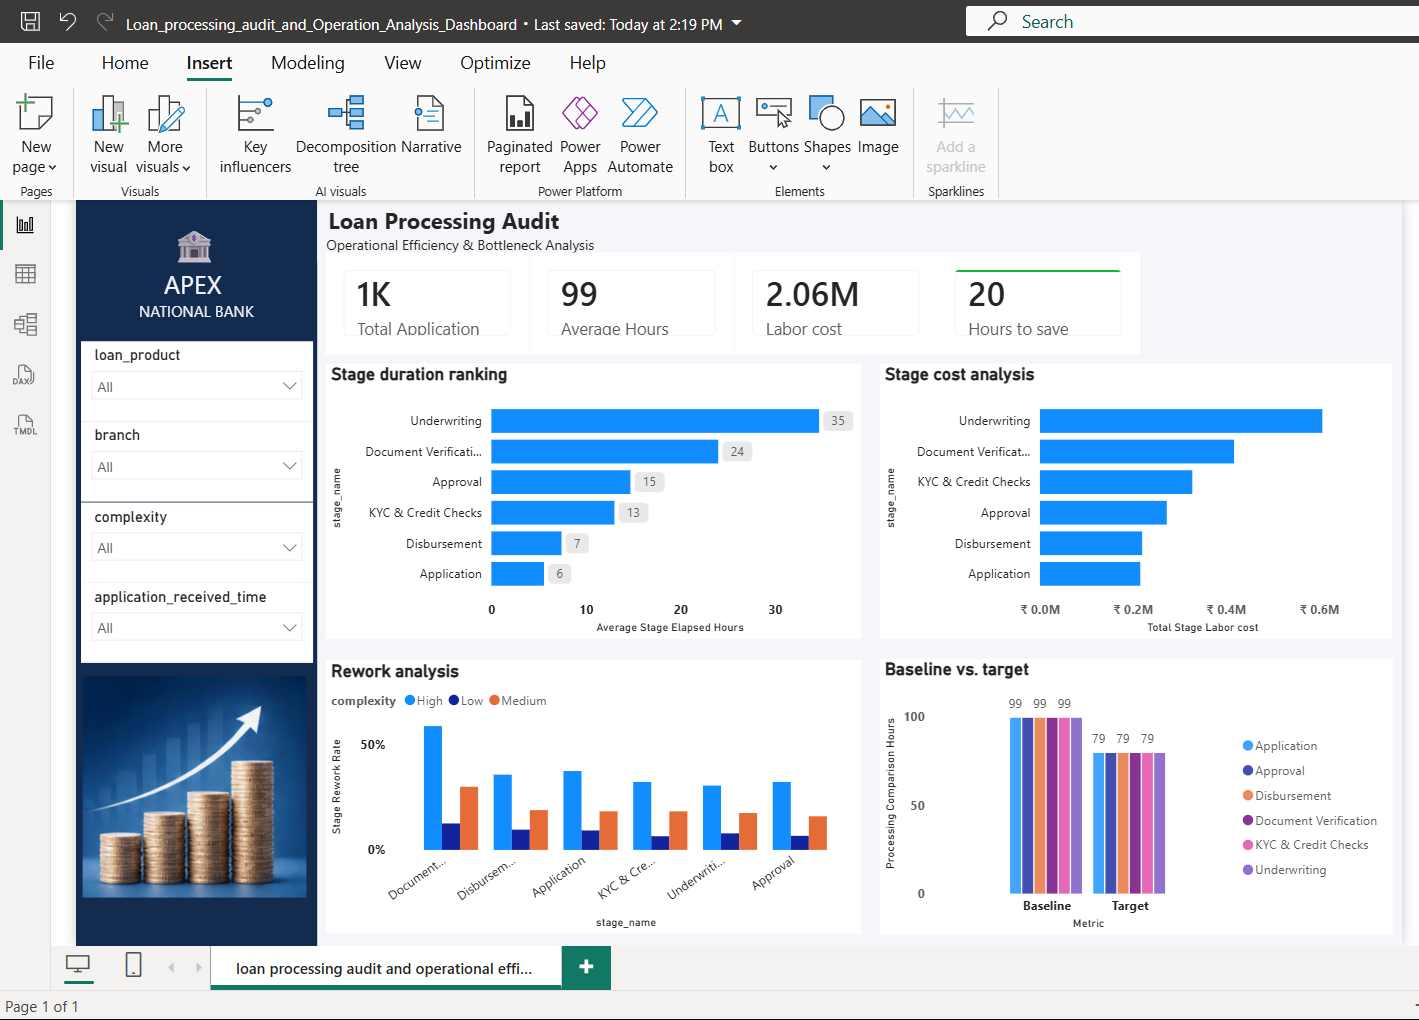

The page's visual inventory and layout, read from the dashboard file:
{"tool":"powerbi","page":{"name":"Page 1","canvas":[1280,720],"ordinal":0},"visuals":[{"type":"textbox","box":[0,0,232.5,720.8],"z":0},{"type":"textbox","box":[232.8,0,1047.2,59.1],"z":1000},{"type":"cardVisual","fields":{"Data":["bank_loan_applications_sample.Total Application"]},"box":[241.8,50.6,196.2,98.7],"z":2000},{"type":"cardVisual","fields":{"Data":["bank_loan_applications_sample.Average Processing Hours"]},"box":[438,50.7,197.2,98.6],"z":3000},{"type":"cardVisual","fields":{"Data":["bank_loan_stage_history_sample.Total Stage Labor cost"]},"box":[635.2,50.7,195.8,98.6],"z":4000},{"type":"cardVisual","fields":{"Data":["bank_loan_applications_sample.Hours to save"]},"box":[831,50.7,195.8,98.6],"z":5000},{"type":"clusteredBarChart","title":"Stage duration ranking","fields":{"Category":["bank_loan_stage_history_sample.stage_name"],"Y":["bank_loan_stage_history_sample.Average Stage Elapsed Hours"]},"box":[241.4,158.6,517.1,265.7],"z":6000},{"type":"clusteredBarChart","title":"Stage cost analysis","fields":{"Category":["bank_loan_stage_history_sample.stage_name"],"Y":["bank_loan_stage_history_sample.Total Stage Labor cost"]},"box":[775.7,158.6,494.3,265.7],"z":7000},{"type":"clusteredColumnChart","title":"Rework analysis","fields":{"Category":["bank_loan_stage_history_sample.stage_name"],"Series":["bank_loan_stage_history_sample.complexity"],"Y":["bank_loan_stage_history_sample.Stage Rework Rate"]},"box":[241.4,444.3,517.1,264.3],"z":8000},{"type":"clusteredColumnChart","title":"Baseline vs. target","fields":{"Category":["Processing Comparison.Metric"],"Y":["Processing Comparison.Processing Comparison Hours"],"Series":["bank_loan_stage_history_sample.stage_name"]},"box":[775.6,442.3,494.9,266.7],"z":9000},{"type":"slicer","fields":{"Values":["bank_loan_applications_sample.loan_product"]},"box":[4.2,136.6,223.9,77.5],"z":10000},{"type":"slicer","fields":{"Values":["bank_loan_applications_sample.branch"]},"box":[4.2,214.1,223.9,77.5],"z":11000},{"type":"slicer","fields":{"Values":["bank_loan_applications_sample.complexity"]},"box":[4.2,291.5,223.9,77.5],"z":12000},{"type":"slicer","fields":{"Values":["bank_loan_applications_sample.application_received_time"]},"box":[4.2,369,223.9,77.5],"z":13000}]}

Visuals, with their boxes on the page's 1280x720 design canvas (x1, y1, x2, y2). These are canvas units, not pixel positions in the 1419x1020 screenshot, which may show the page scaled, cropped or inside an application window:
textbox: [0,0,232,721]
textbox: [233,0,1280,59]
cardVisual - bank_loan_applications_sample.Total Application: [242,51,438,149]
cardVisual - bank_loan_applications_sample.Average Processing Hours: [438,51,635,149]
cardVisual - bank_loan_stage_history_sample.Total Stage Labor cost: [635,51,831,149]
cardVisual - bank_loan_applications_sample.Hours to save: [831,51,1027,149]
"Stage duration ranking" clusteredBarChart: [241,159,758,424]
"Stage cost analysis" clusteredBarChart: [776,159,1270,424]
"Rework analysis" clusteredColumnChart: [241,444,758,709]
"Baseline vs. target" clusteredColumnChart: [776,442,1270,709]
slicer - bank_loan_applications_sample.loan_product: [4,137,228,214]
slicer - bank_loan_applications_sample.branch: [4,214,228,292]
slicer - bank_loan_applications_sample.complexity: [4,292,228,369]
slicer - bank_loan_applications_sample.application_received_time: [4,369,228,446]
